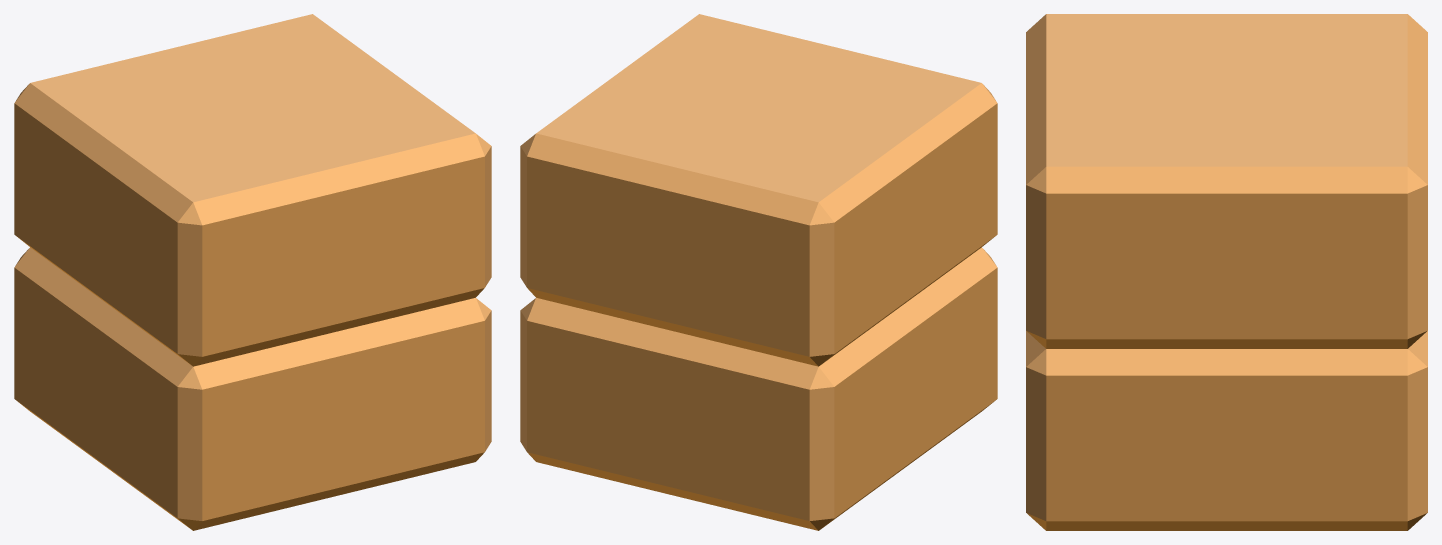
Rendered from m_kub_clay_cubeSmallDouble.FBX.
3 views of the same model, side by side, from view 1: azimuth 30°, elevation 25°; view 2: azimuth 150°, elevation 25°; view 3: azimuth 270°, elevation 25° (orthographic). The views are drawn at different scales.
Parts seen in each view (by area): view 1: m_kub_clay_cubeSmallDouble; view 2: m_kub_clay_cubeSmallDouble; view 3: m_kub_clay_cubeSmallDouble.
Boxes of the visible parts, box(x1,y1,x2,y2) form: m_kub_clay_cubeSmallDouble: box(14, 14, 491, 530); m_kub_clay_cubeSmallDouble: box(520, 14, 997, 530); m_kub_clay_cubeSmallDouble: box(1026, 14, 1427, 530).
Size of the model in its own units: 2 by 2 by 2.
